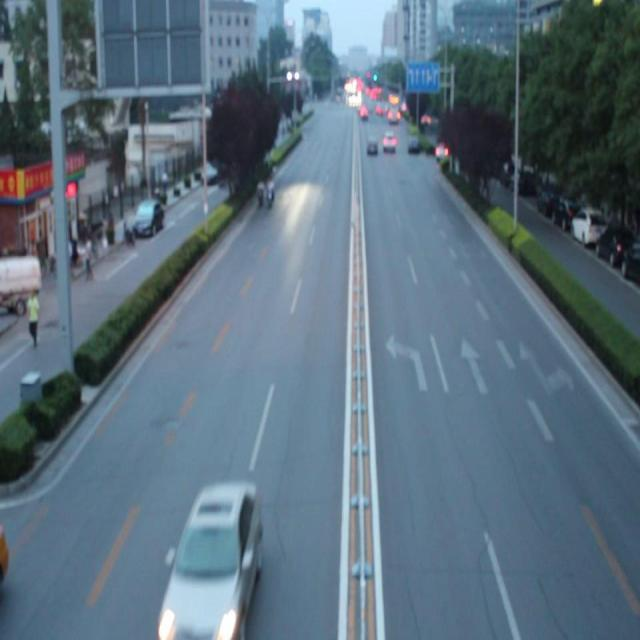car: (163, 483, 261, 632)
